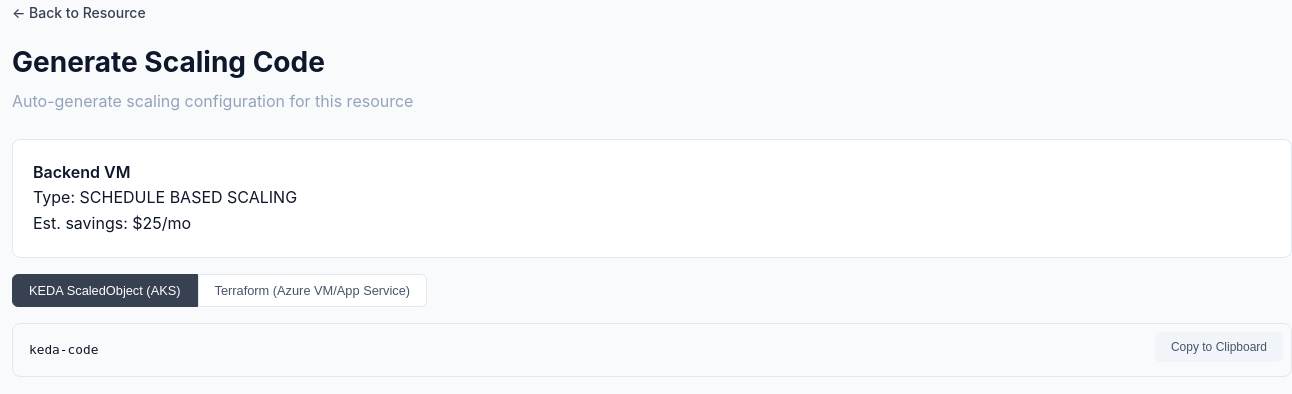
GenerateCodePage › switches generated-code tabs and copies the active code
Expected: the text "keda-code" is shown, [29, 342, 98, 357]
Click the tab "Terraform (Azure VM/App Service)" at coordinates (312, 290), box [198, 274, 427, 307]
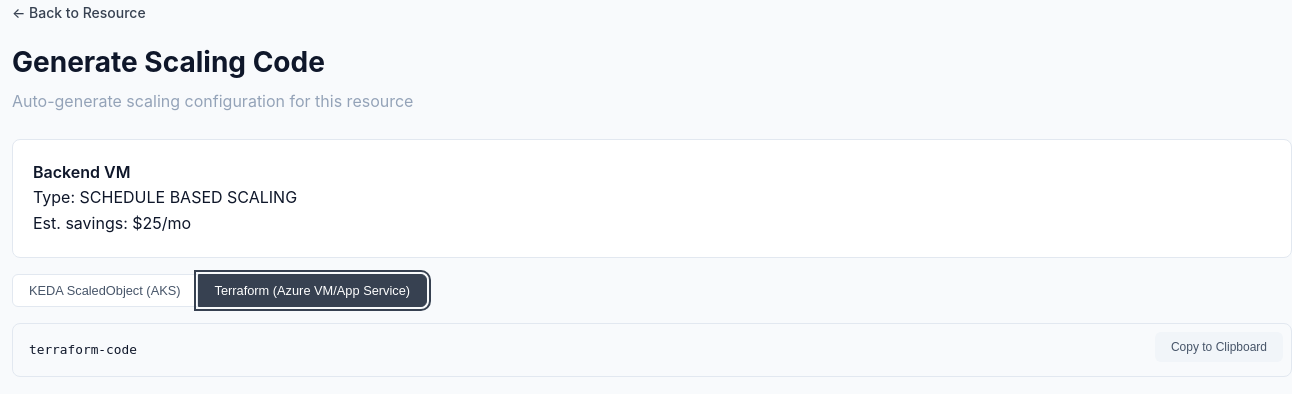
Expected: the button with aria-label "Copy code to clipboard" is shown, [1155, 332, 1283, 362]
Expected: the text "terraform-code" is shown, [29, 342, 137, 357]
